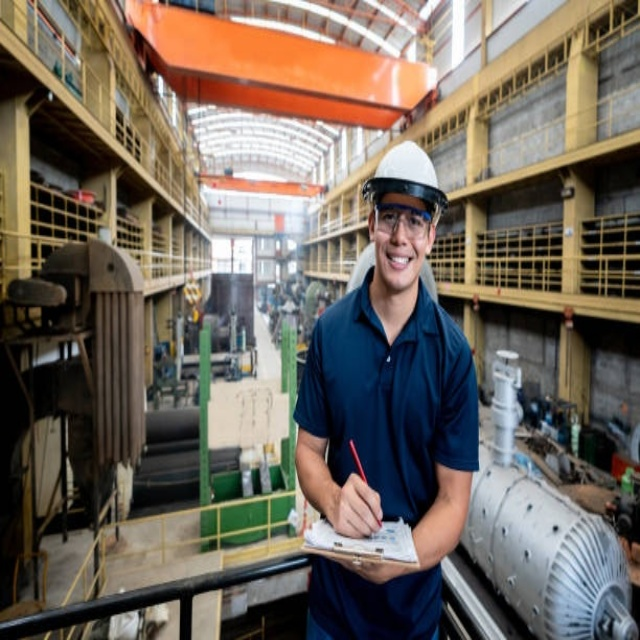Gafas: (373, 204, 435, 242)
Sin_guantes: (329, 470, 382, 538)
Sin_mascara: (383, 245, 416, 286)
